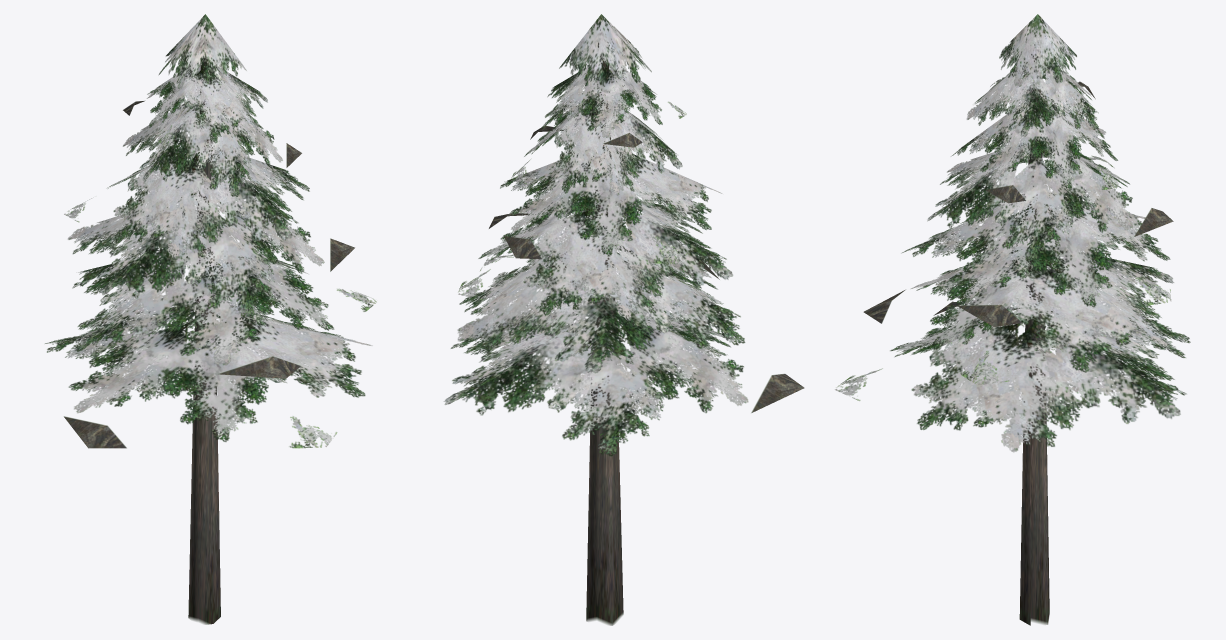
Rendered from tree_pine_03.glb.
The picture shows the model from 3 angles, left to right: view 1: azimuth 30°, elevation 25°; view 2: azimuth 150°, elevation 25°; view 3: azimuth 270°, elevation 25°; orthographic projection.
Visible parts, largest first — view 1: tree_pine_03; view 2: tree_pine_03; view 3: tree_pine_03.
Part boxes in pixels (left/top/right/bottom): tree_pine_03: left=45, top=14, right=376, bottom=624; tree_pine_03: left=444, top=14, right=804, bottom=625; tree_pine_03: left=835, top=14, right=1190, bottom=625.
Size of the model in its own units: 14.43 by 25.13 by 14.21.
1 material, 1 textured.
